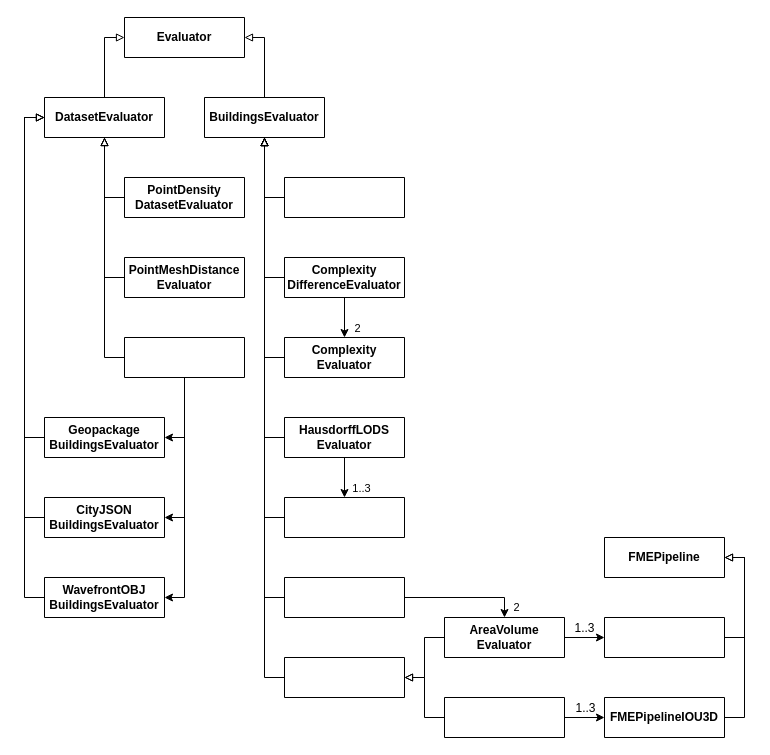
The diagram is 770 pixels wide and 755 high, and some of its shapes have lost their labels. The shapes that lost their labels are listed below. From the top down, each one's box as (x1, y1, x2, y2) in pixels, then its label:
(284, 176, 404, 218): HeightDifference Evaluator
(124, 336, 244, 378): GeoflowOutput Evaluator
(284, 496, 404, 538): HausdorffEvaluator
(284, 576, 404, 618): AreaVolume DifferenceEvaluator
(604, 616, 724, 658): FMEPipeline AreaVolume
(284, 656, 404, 698): FMEEvaluator
(444, 696, 564, 738): IOU3DEvaluator
